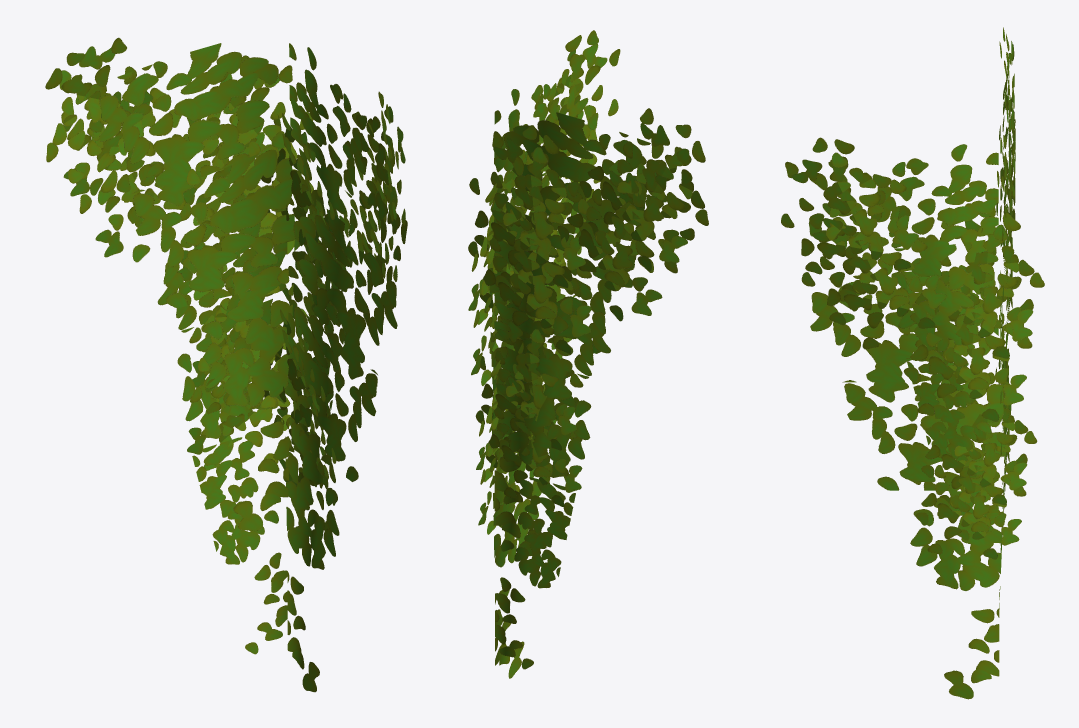
Rendered from SM_Vine_Corner_02.fbx.
3 views of the same model, side by side, from view 1: azimuth 30°, elevation 25°; view 2: azimuth 150°, elevation 25°; view 3: azimuth 270°, elevation 25° (orthographic). The views are drawn at different scales.
Visible parts, largest first — view 1: SM_Vine_Corner_02; view 2: SM_Vine_Corner_02; view 3: SM_Vine_Corner_02.
Boxes of the visible parts, x1,y1,x2,y2 form: SM_Vine_Corner_02: (45,37,407,692); SM_Vine_Corner_02: (468,30,708,678); SM_Vine_Corner_02: (781,27,1044,699).
Bounding box in the file's own units: 2.82 × 6.16 × 2.71.
